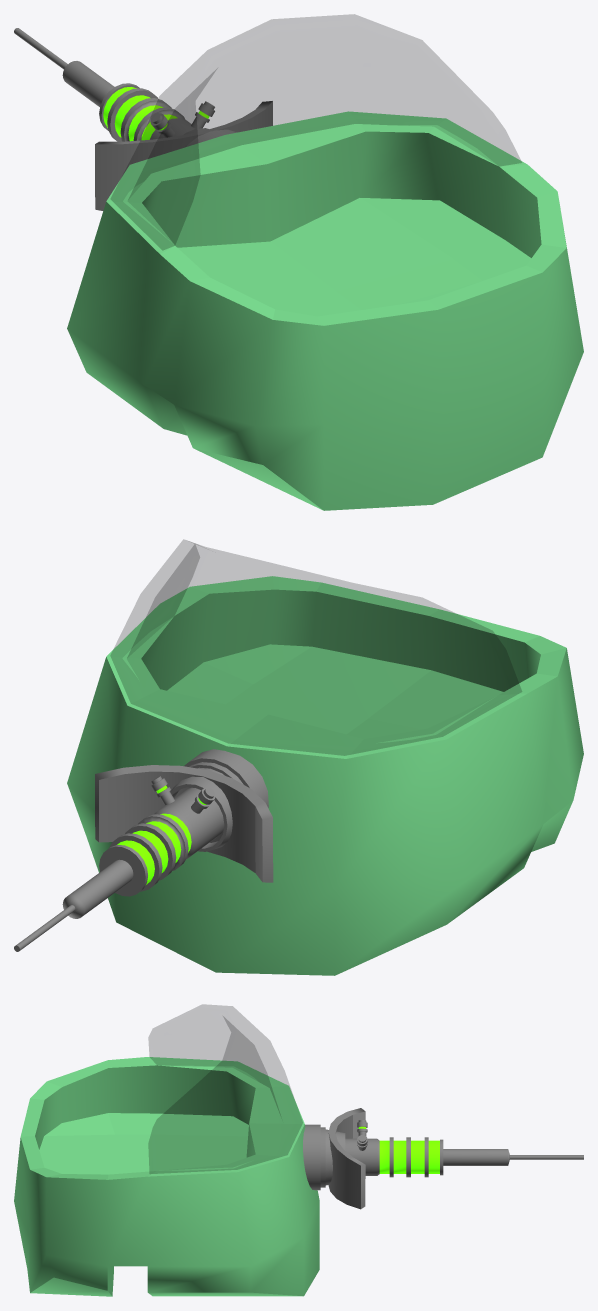
File: Turret-Plasma.fbx
The picture shows the model from 3 angles, top to bottom: view 1: azimuth 30°, elevation 25°; view 2: azimuth 150°, elevation 25°; view 3: azimuth 270°, elevation 25°; orthographic projection. The views are drawn at different scales.
Visible parts, largest first — view 1: Turret_Plasma2; view 2: Turret_Plasma2; view 3: Turret_Plasma2.
Part boxes in pixels (bbox=[...]): Turret_Plasma2: bbox=[14, 14, 583, 510]; Turret_Plasma2: bbox=[14, 539, 583, 975]; Turret_Plasma2: bbox=[14, 1004, 583, 1296].
Size of the model in its own units: 0.4319 by 0.3797 by 0.8001.
